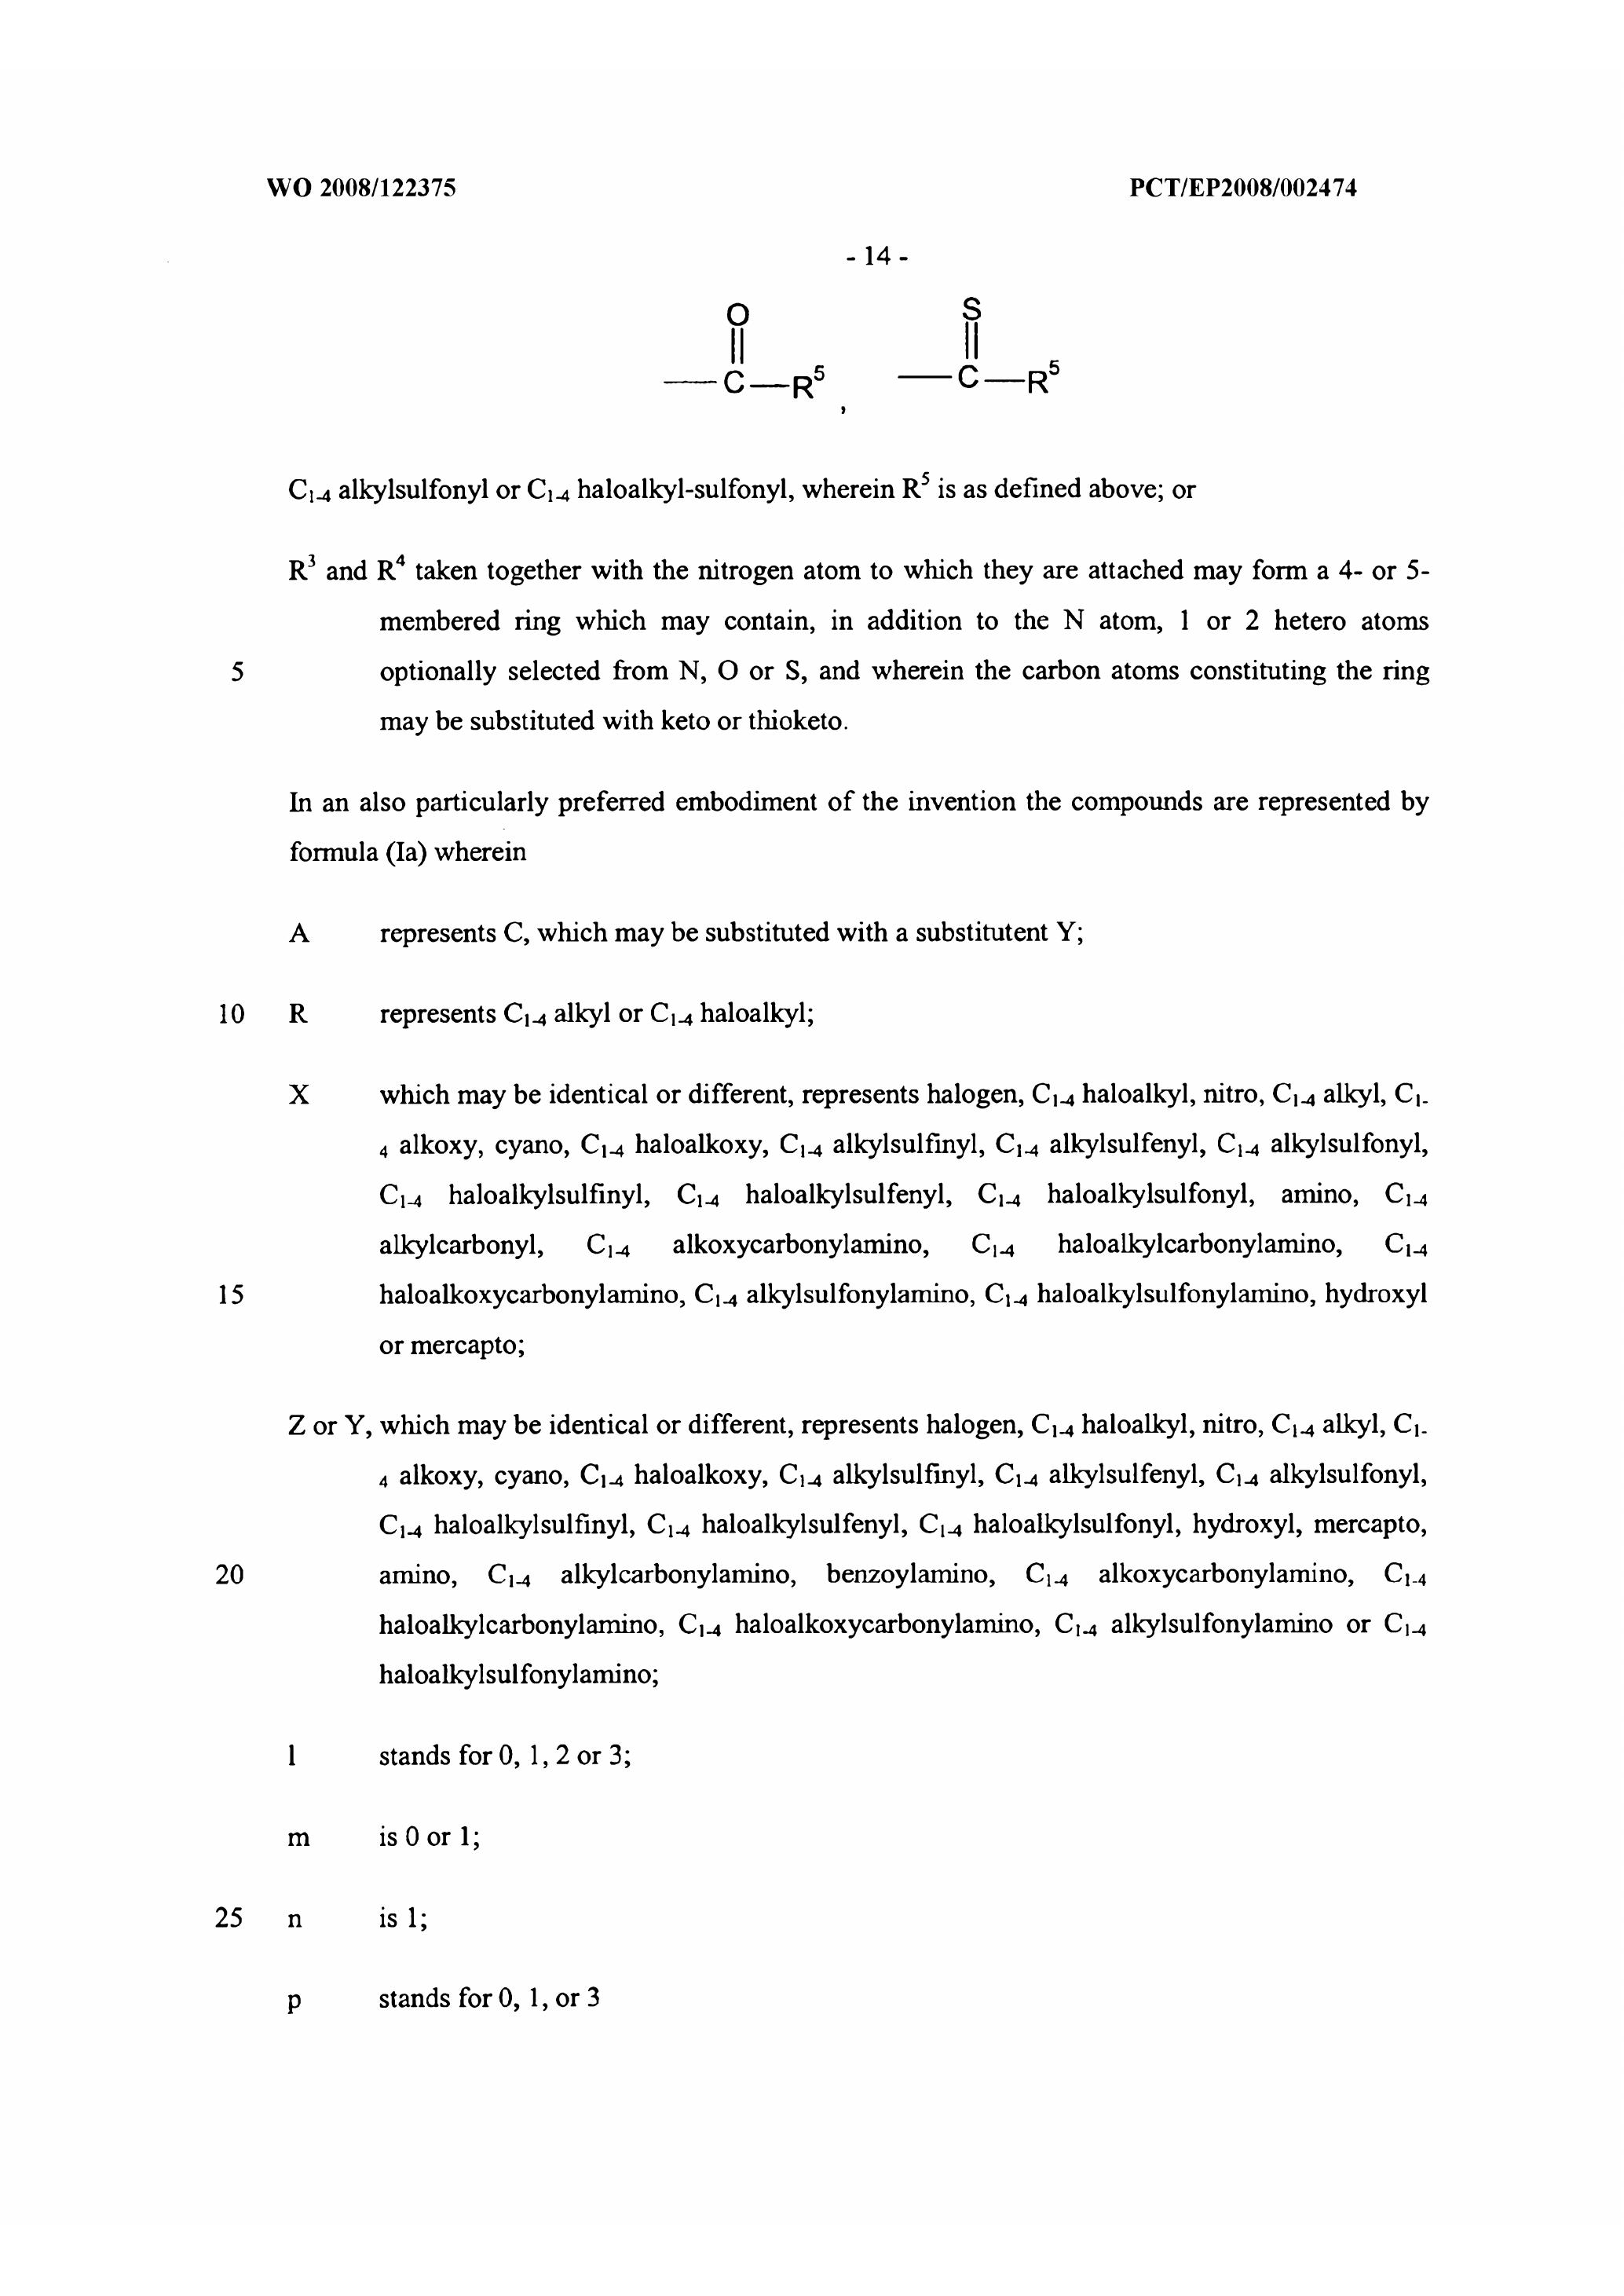substitutes: (253, 246, 1475, 960)
